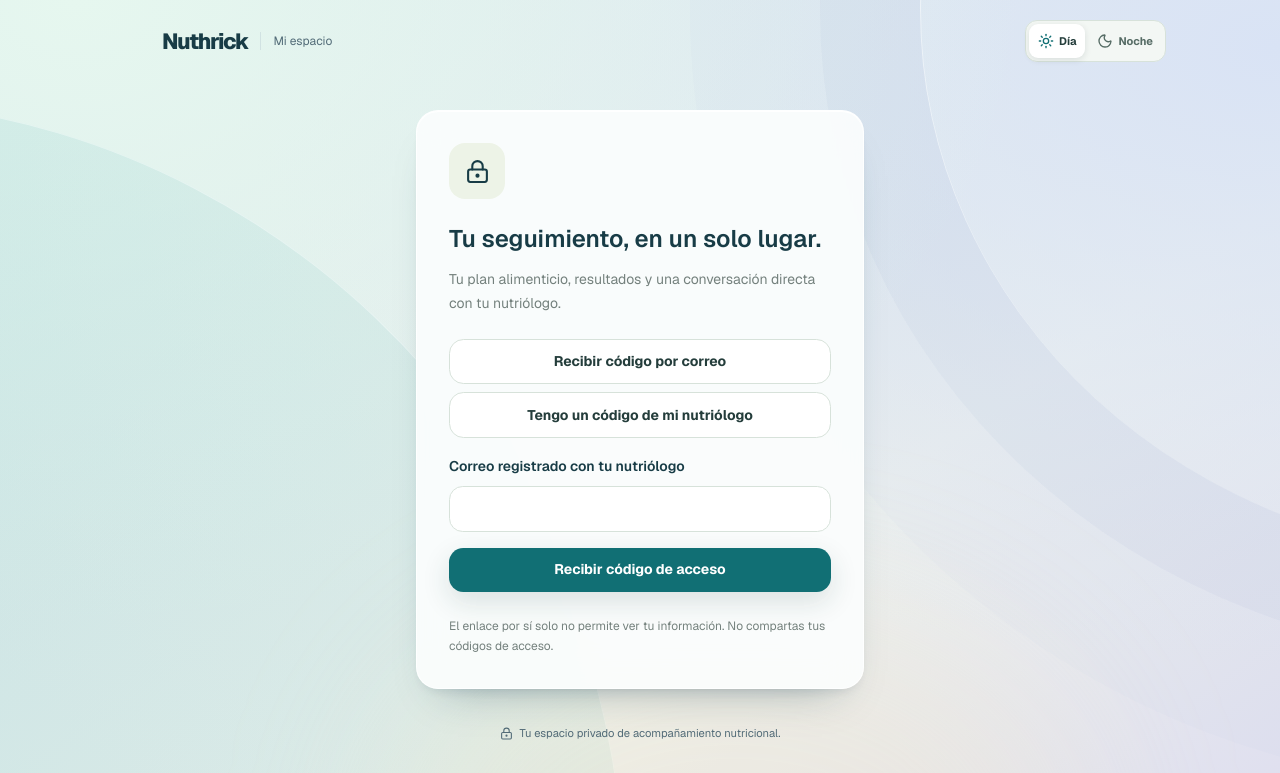
Test case: patient space › accepts a professional code without requesting an email
Step 1. Click the button "Tengo un código de mi nutriólogo" → (640, 415), box [449,392,831,438]
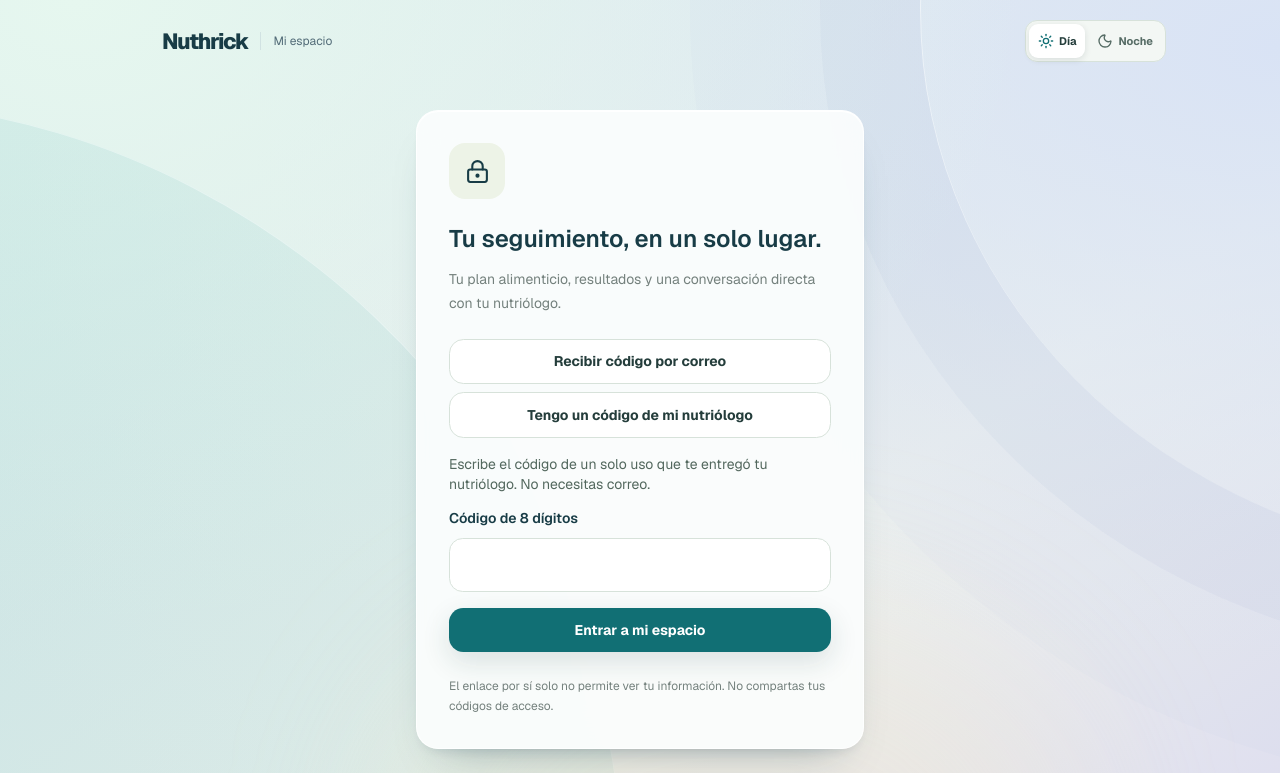
Expected: the label labelled "Correo registrado con tu nutriólogo" is gone
Step 2. Type "12345678" into the field labelled "Código de 8 dígitos" → (640, 565), box [449,538,831,592]
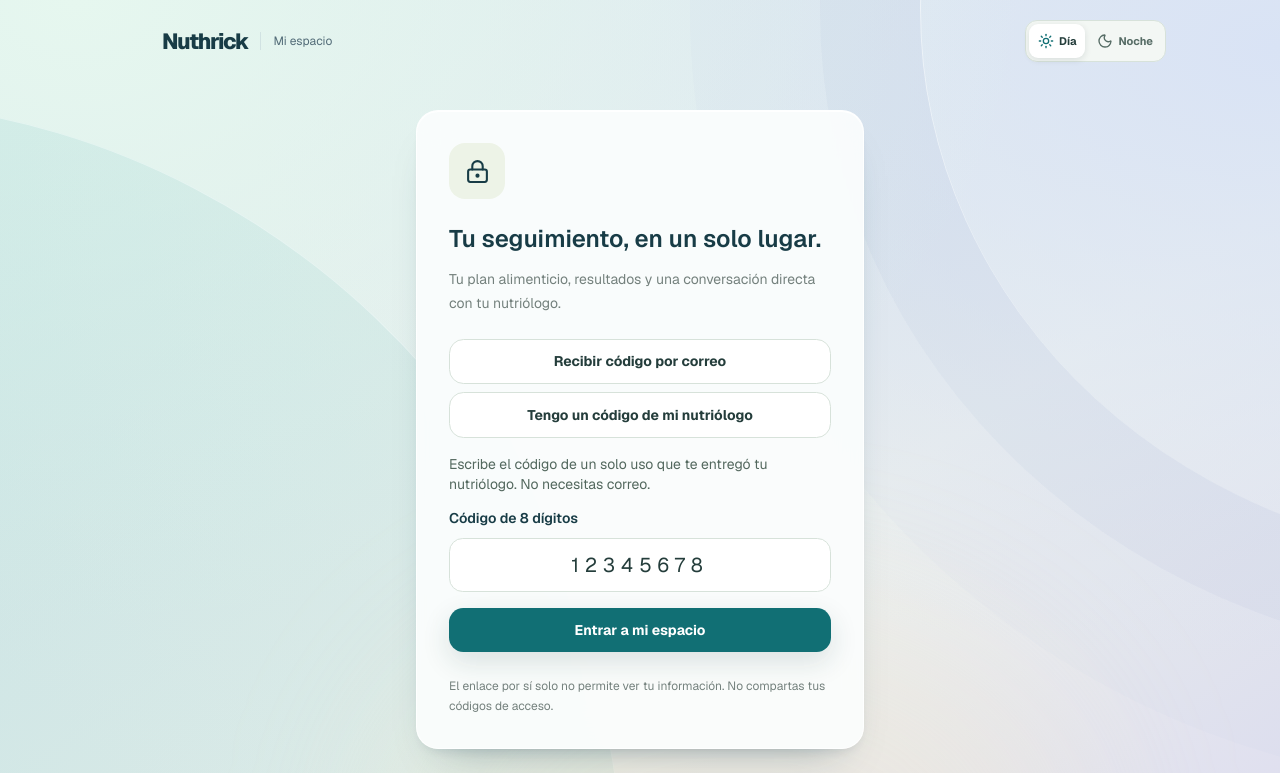
Step 3. Click the button "Entrar a mi espacio" → (640, 630), box [449,608,831,652]
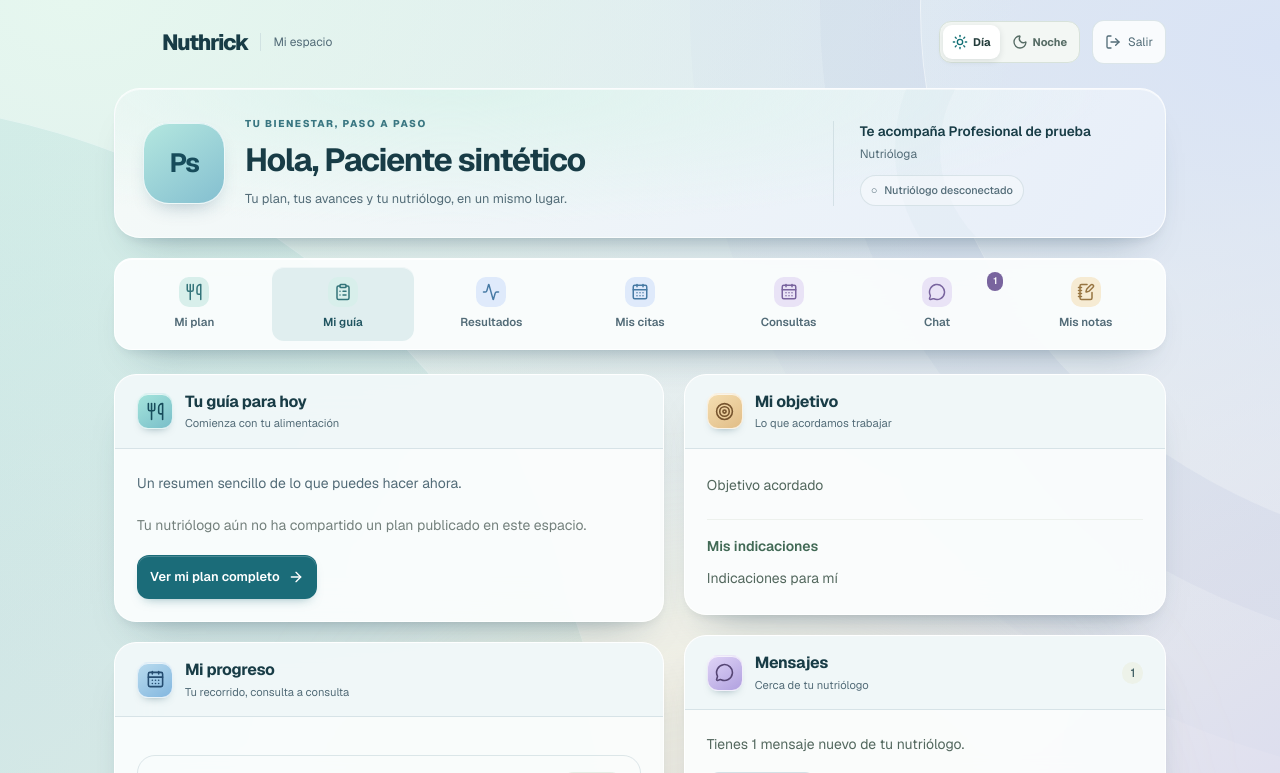
Expected: the heading "Hola, Paciente sintético" is shown, [245,140,585,180]
Expected: the text "Tu nutriólogo aún no ha compartido un plan publicado en este espacio." is shown, [137,515,641,535]
